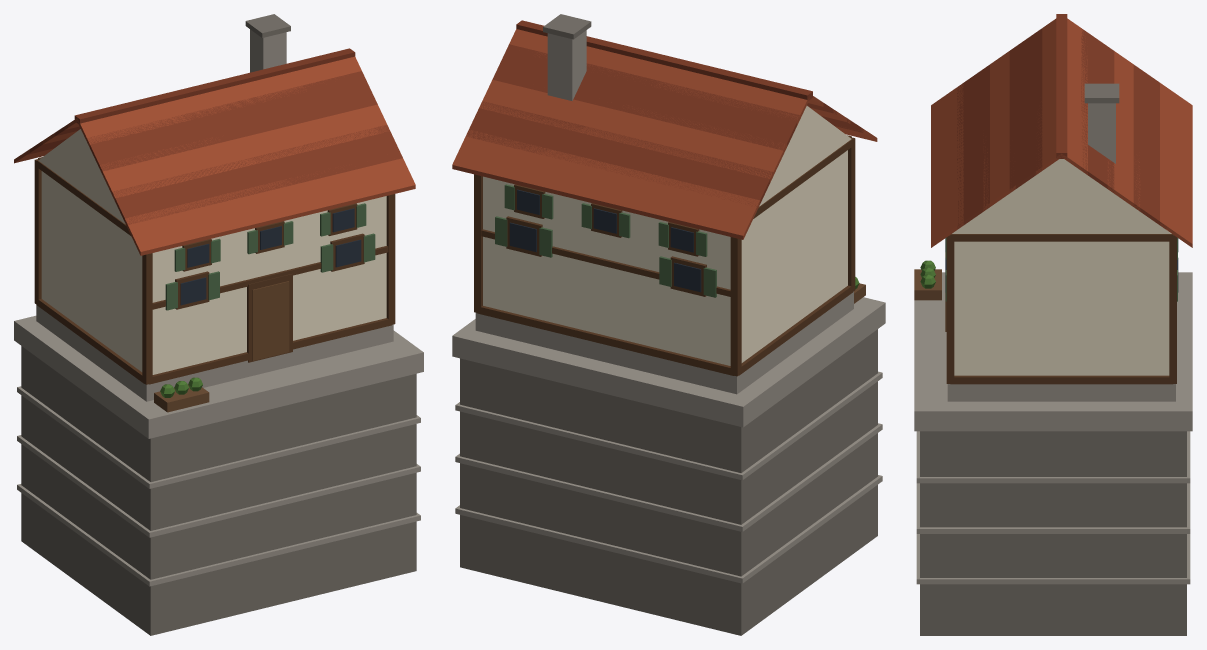
The model's file is house_l2.glb.
The picture shows the model from 3 angles, left to right: view 1: azimuth 30°, elevation 25°; view 2: azimuth 150°, elevation 25°; view 3: azimuth 270°, elevation 25°; orthographic projection. The views are drawn at different scales.
Parts seen in each view (by area): view 1: house_l2; view 2: house_l2; view 3: house_l2.
Part boxes in pixels (x1=…): house_l2: x1=14, y1=14, x2=423, y2=635; house_l2: x1=452, y1=14, x2=885, y2=635; house_l2: x1=914, y1=14, x2=1192, y2=635.
Size of the model in its own units: 5.9 by 10.2 by 5.
